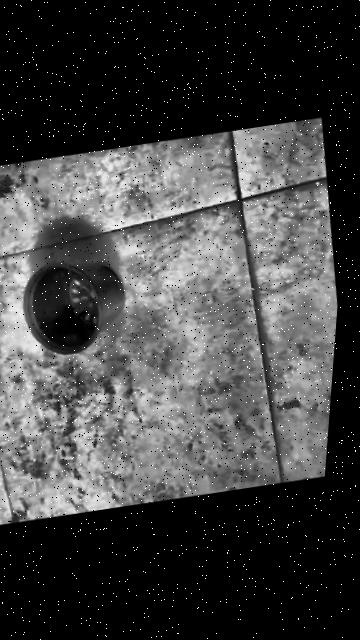pot: (13, 252, 135, 361)
